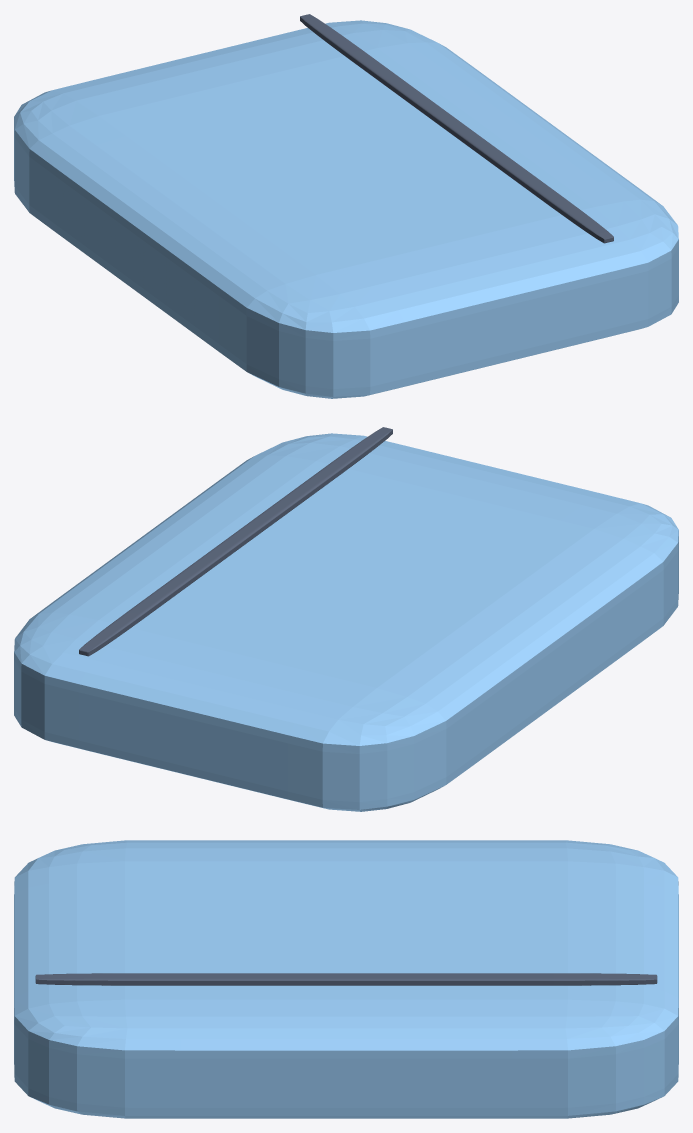
Rendered from notebook.glb.
The picture shows the model from 3 angles, top to bottom: view 1: azimuth 30°, elevation 25°; view 2: azimuth 150°, elevation 25°; view 3: azimuth 270°, elevation 25°; orthographic projection.
Parts seen in each view (by area): view 1: cover, elastic; view 2: cover, elastic; view 3: cover, elastic.
Boxes of the visible parts, x1,y1,x2,y2 form: cover: (14,20,678,398); elastic: (300,14,613,243); cover: (14,433,678,811); elastic: (79,427,392,656); cover: (14,840,678,1118); elastic: (35,973,657,985).
Size of the model in its own units: 0.34 by 0.082 by 0.46.
